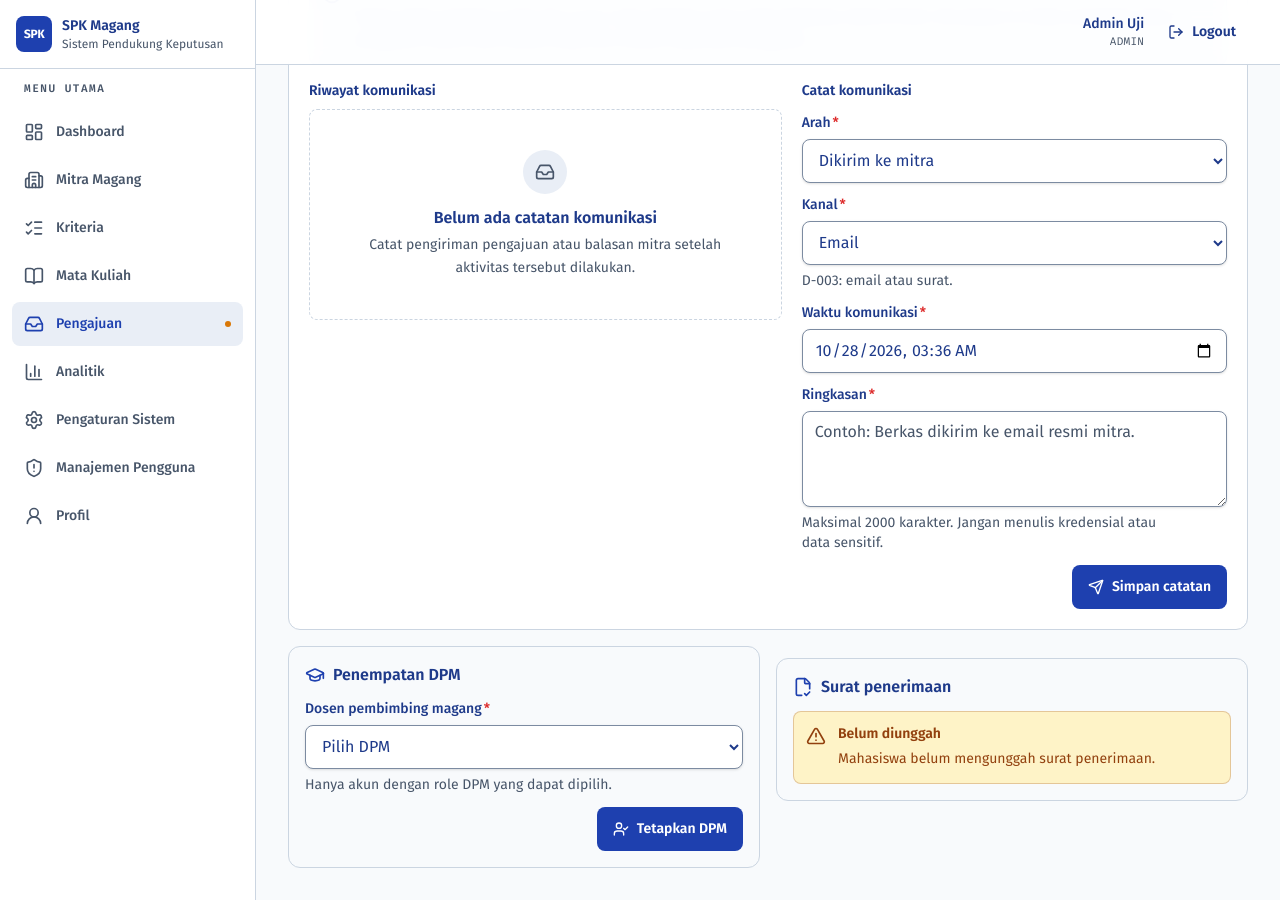
AdminApplicationDetailPage › menetapkan DPM untuk pengajuan yang diterima dan menampilkan hasilnya
(page scrolled)
Select "Dr. Dosen Pembimbing — dosen@example.test" in the dropdown labelled "Dosen pembimbing magang*" at {"x": 524, "y": 747}, box [305,725,743,769]
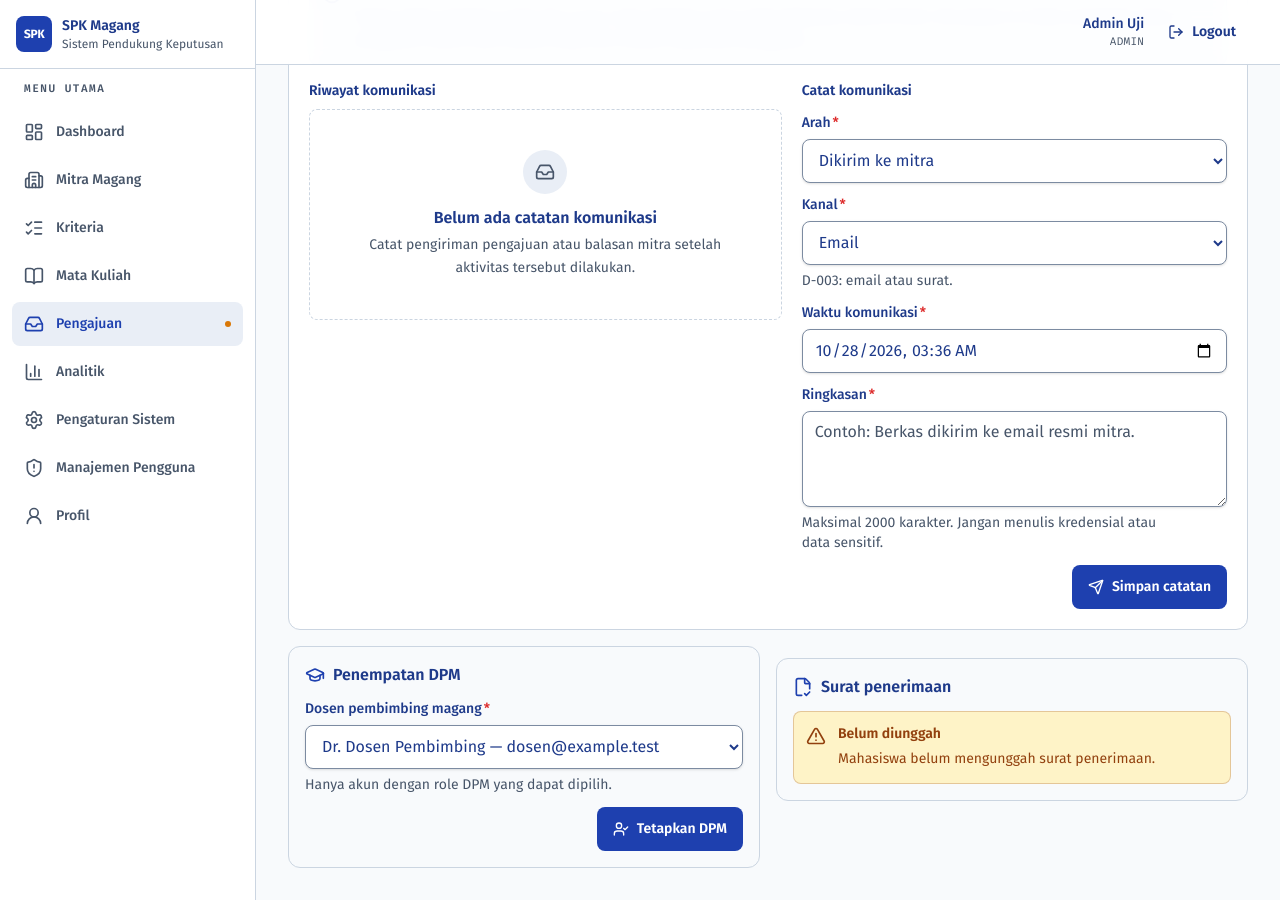
Click the button "Tetapkan DPM".
click(670, 829)  # box [597,807,743,851]
(page scrolled)
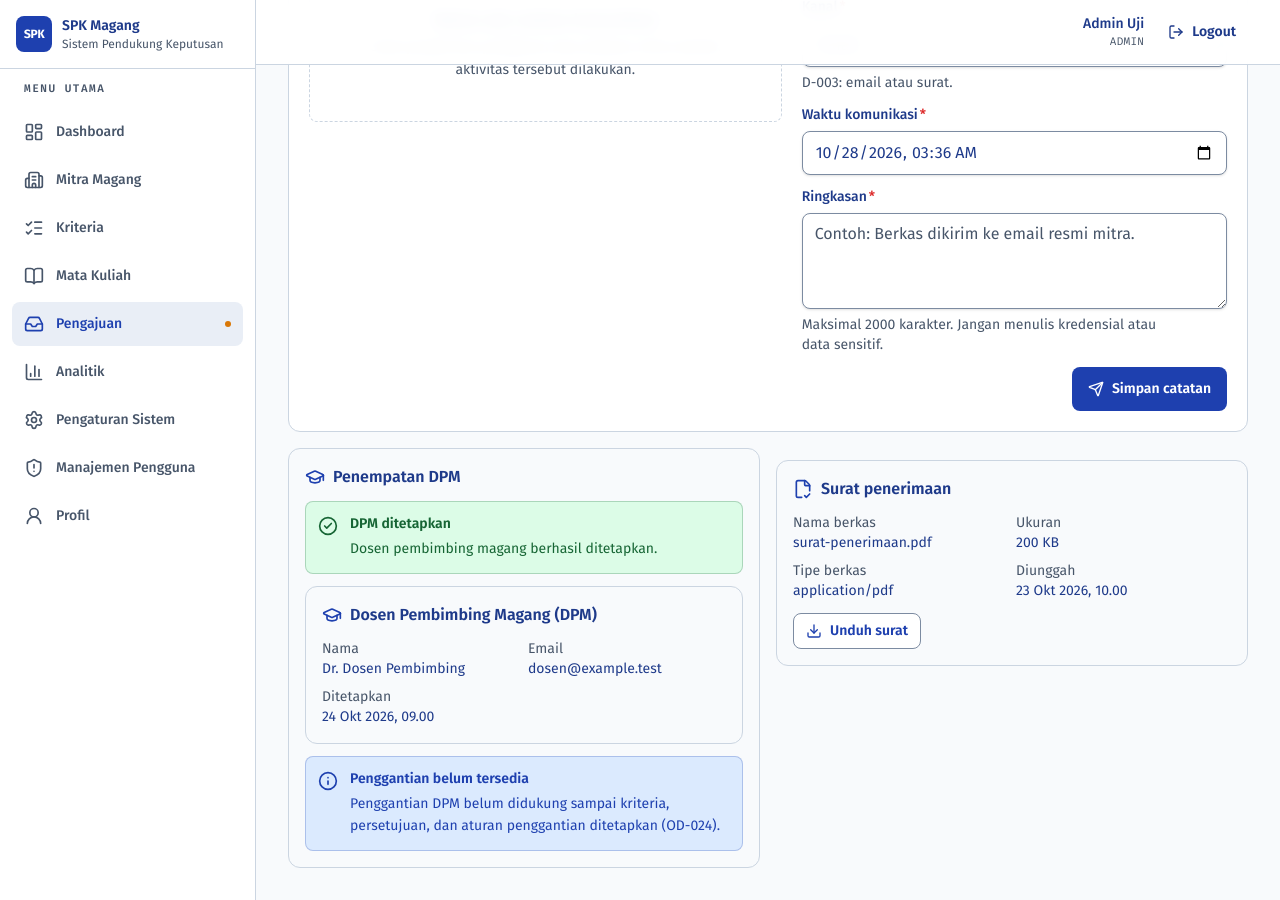
Check: the text "Dosen pembimbing magang berhasil ditetapkan." is shown, box [350,538,657,561]
Check: the text "Dr. Dosen Pembimbing" is shown, box [322,660,465,676]
Check: the text "dosen@example.test" is shown, box [528,660,662,676]
